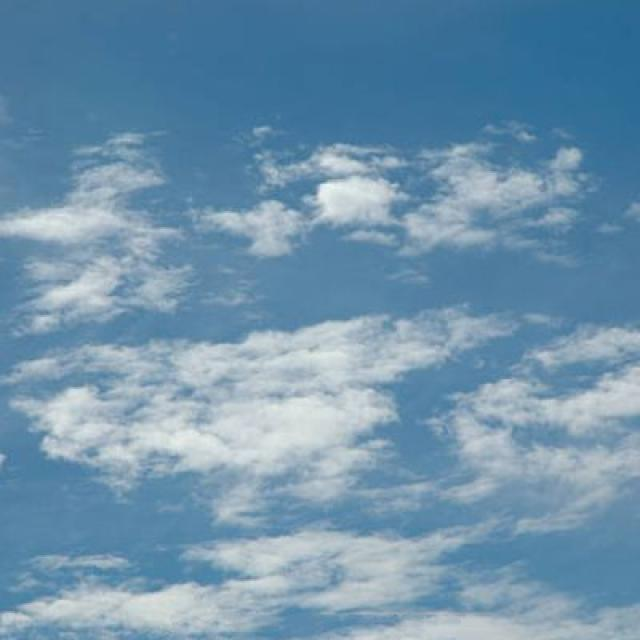Cc: (17, 120, 640, 559)
